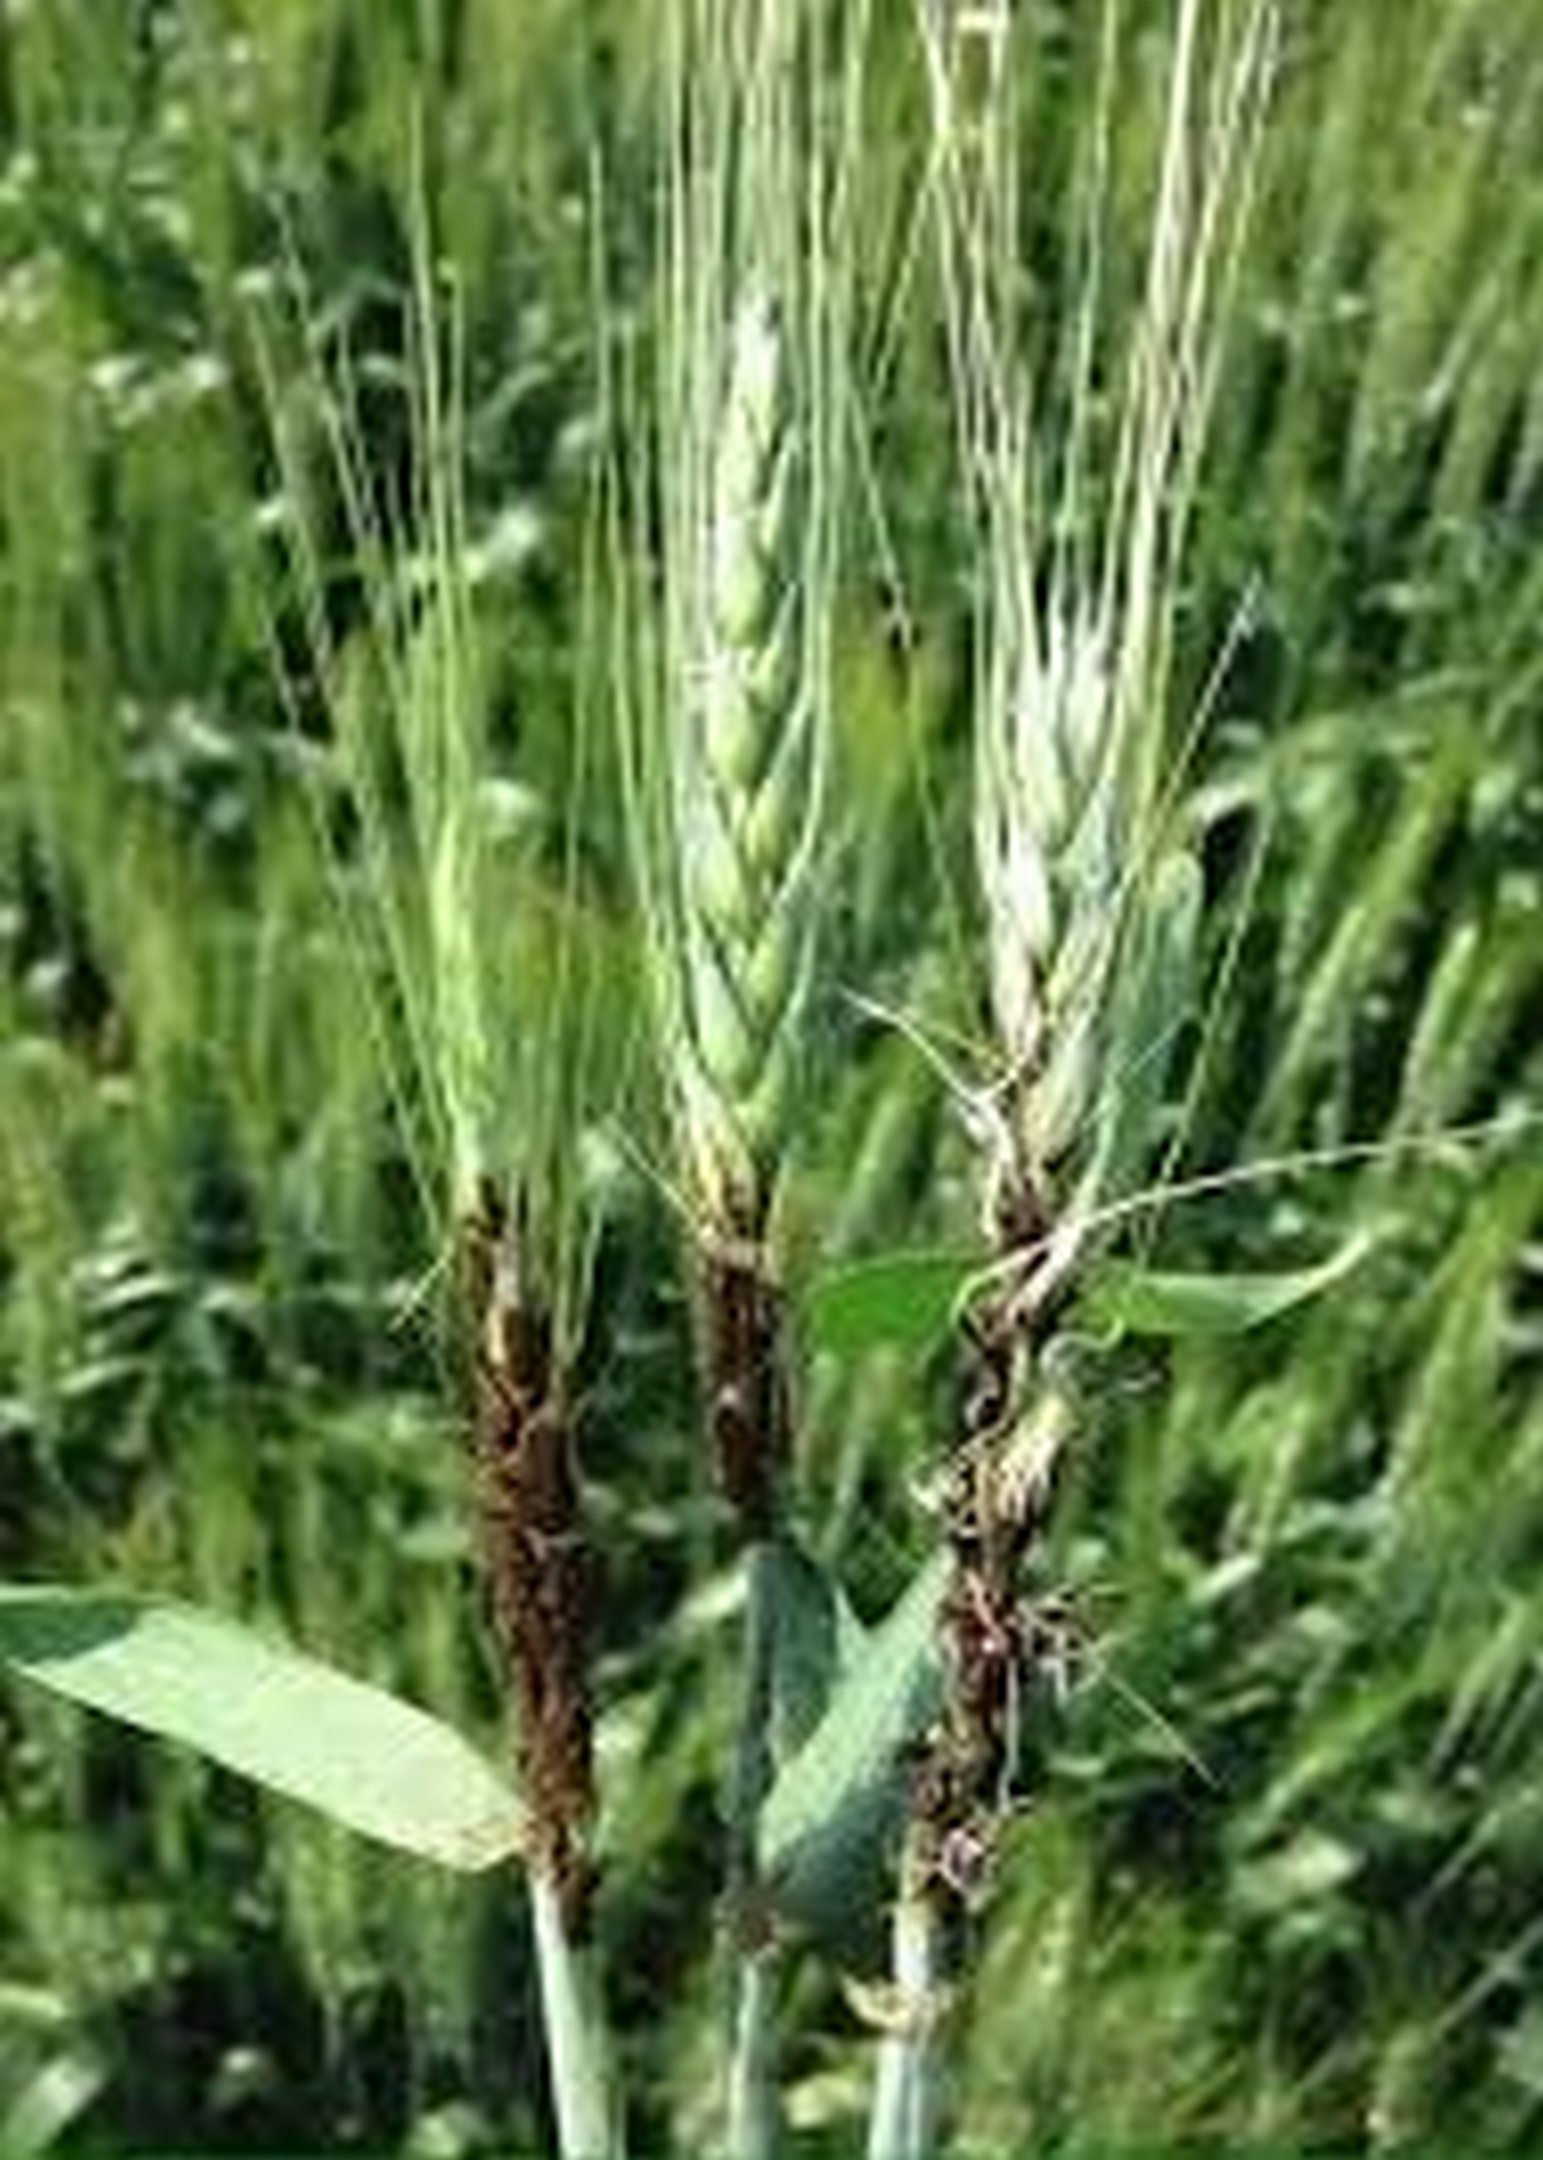Wheat Loose Smut: (451, 1200, 1126, 1980)
